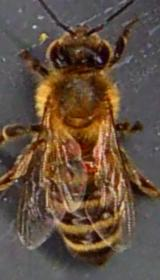varroa_mite: (74, 151, 98, 175)
